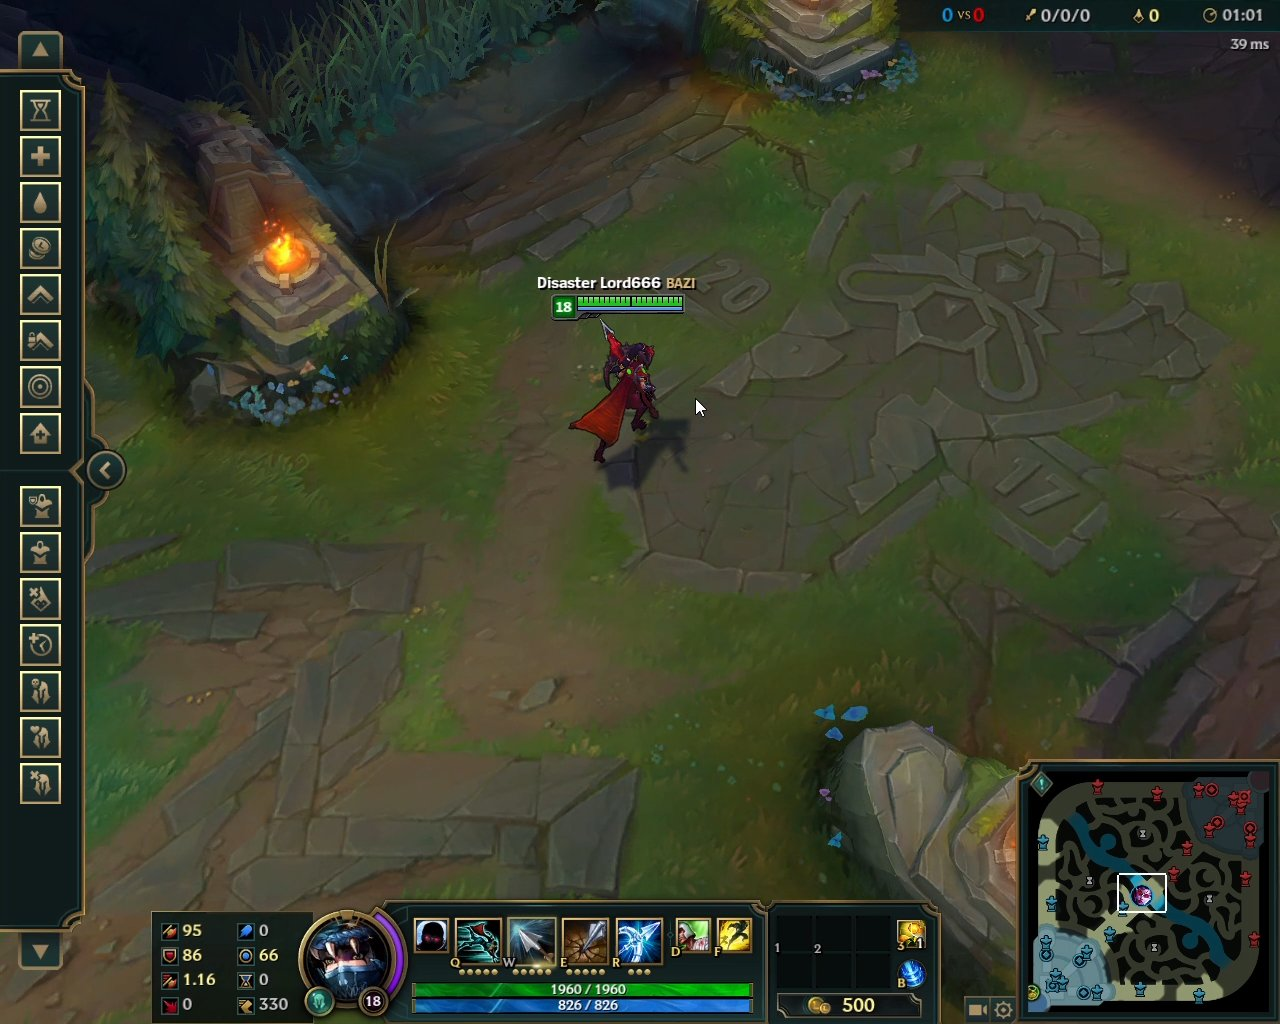Vayne: (566, 317, 674, 478)
